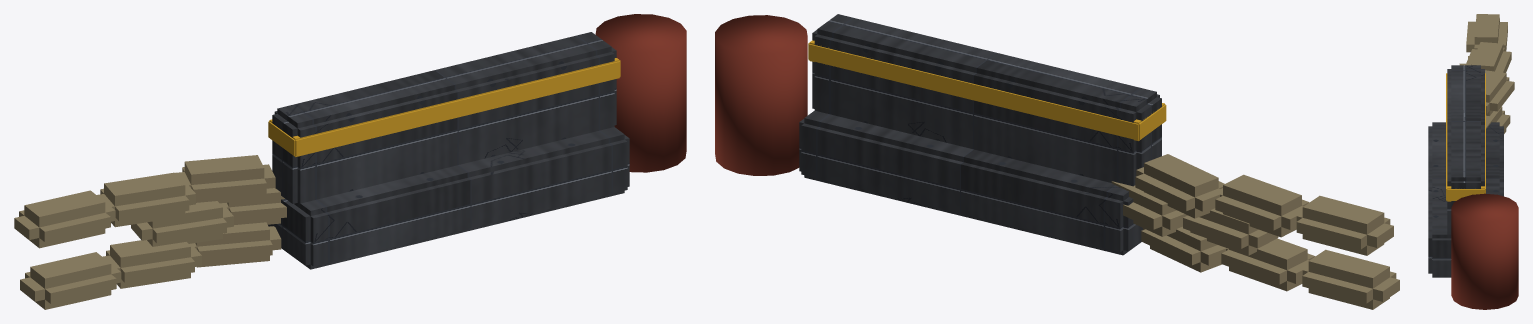
The model's file is tactical_cover.glb.
3 views of the same model, side by side, from view 1: azimuth 30°, elevation 25°; view 2: azimuth 150°, elevation 25°; view 3: azimuth 270°, elevation 25° (orthographic). The views are drawn at different scales.
Parts seen in each view (by area): view 1: BarrierTop, BarrierBase, OilDrum, BarrierStripe, Sandbag_0_2, Sandbag_2_2, Sandbag_2_1, Sandbag_2_0, Sandbag_0_1, Sandbag_1_1, Sandbag_0_0, Sandbag_1_0; view 2: BarrierTop, BarrierBase, OilDrum, BarrierStripe, Sandbag_2_2, Sandbag_0_2, Sandbag_2_1, Sandbag_2_0, Sandbag_0_1, Sandbag_1_1, Sandbag_0_0, Sandbag_1_0; view 3: OilDrum, BarrierTop, BarrierBase, Sandbag_2_2, Sandbag_2_1, Sandbag_2_0, BarrierStripe, Sandbag_1_0.
Boxes of the visible parts, x1,y1,x2,y2 form: BarrierTop: [272, 32, 616, 204]; BarrierBase: [268, 127, 629, 269]; OilDrum: [595, 14, 686, 172]; BarrierStripe: [268, 58, 620, 156]; Sandbag_0_2: [20, 252, 121, 309]; Sandbag_2_2: [14, 190, 115, 248]; Sandbag_2_1: [97, 172, 195, 227]; Sandbag_2_0: [175, 155, 275, 203]; Sandbag_0_1: [102, 240, 201, 288]; Sandbag_1_1: [131, 201, 233, 246]; Sandbag_0_0: [190, 222, 281, 267]; Sandbag_1_0: [220, 188, 286, 224]; BarrierTop: [812, 14, 1161, 186]; BarrierBase: [799, 110, 1142, 255]; OilDrum: [715, 15, 807, 175]; BarrierStripe: [808, 40, 1166, 141]; Sandbag_2_2: [1296, 195, 1393, 255]; Sandbag_0_2: [1302, 249, 1399, 309]; Sandbag_2_1: [1214, 174, 1309, 237]; Sandbag_2_0: [1135, 154, 1224, 218]; Sandbag_0_1: [1221, 238, 1315, 291]; Sandbag_1_1: [1183, 208, 1278, 255]; Sandbag_0_0: [1141, 226, 1226, 272]; Sandbag_1_0: [1111, 181, 1187, 236]; OilDrum: [1451, 193, 1518, 309]; BarrierTop: [1447, 65, 1484, 234]; BarrierBase: [1428, 122, 1503, 277]; Sandbag_2_2: [1466, 14, 1507, 52]; Sandbag_2_1: [1465, 42, 1511, 72]; Sandbag_2_0: [1485, 70, 1514, 115]; BarrierStripe: [1446, 73, 1485, 201]; Sandbag_1_0: [1486, 106, 1510, 130].
Bounding box in the file's own units: 5.27 × 1.05 × 0.86.
4 materials, 1 textured.
